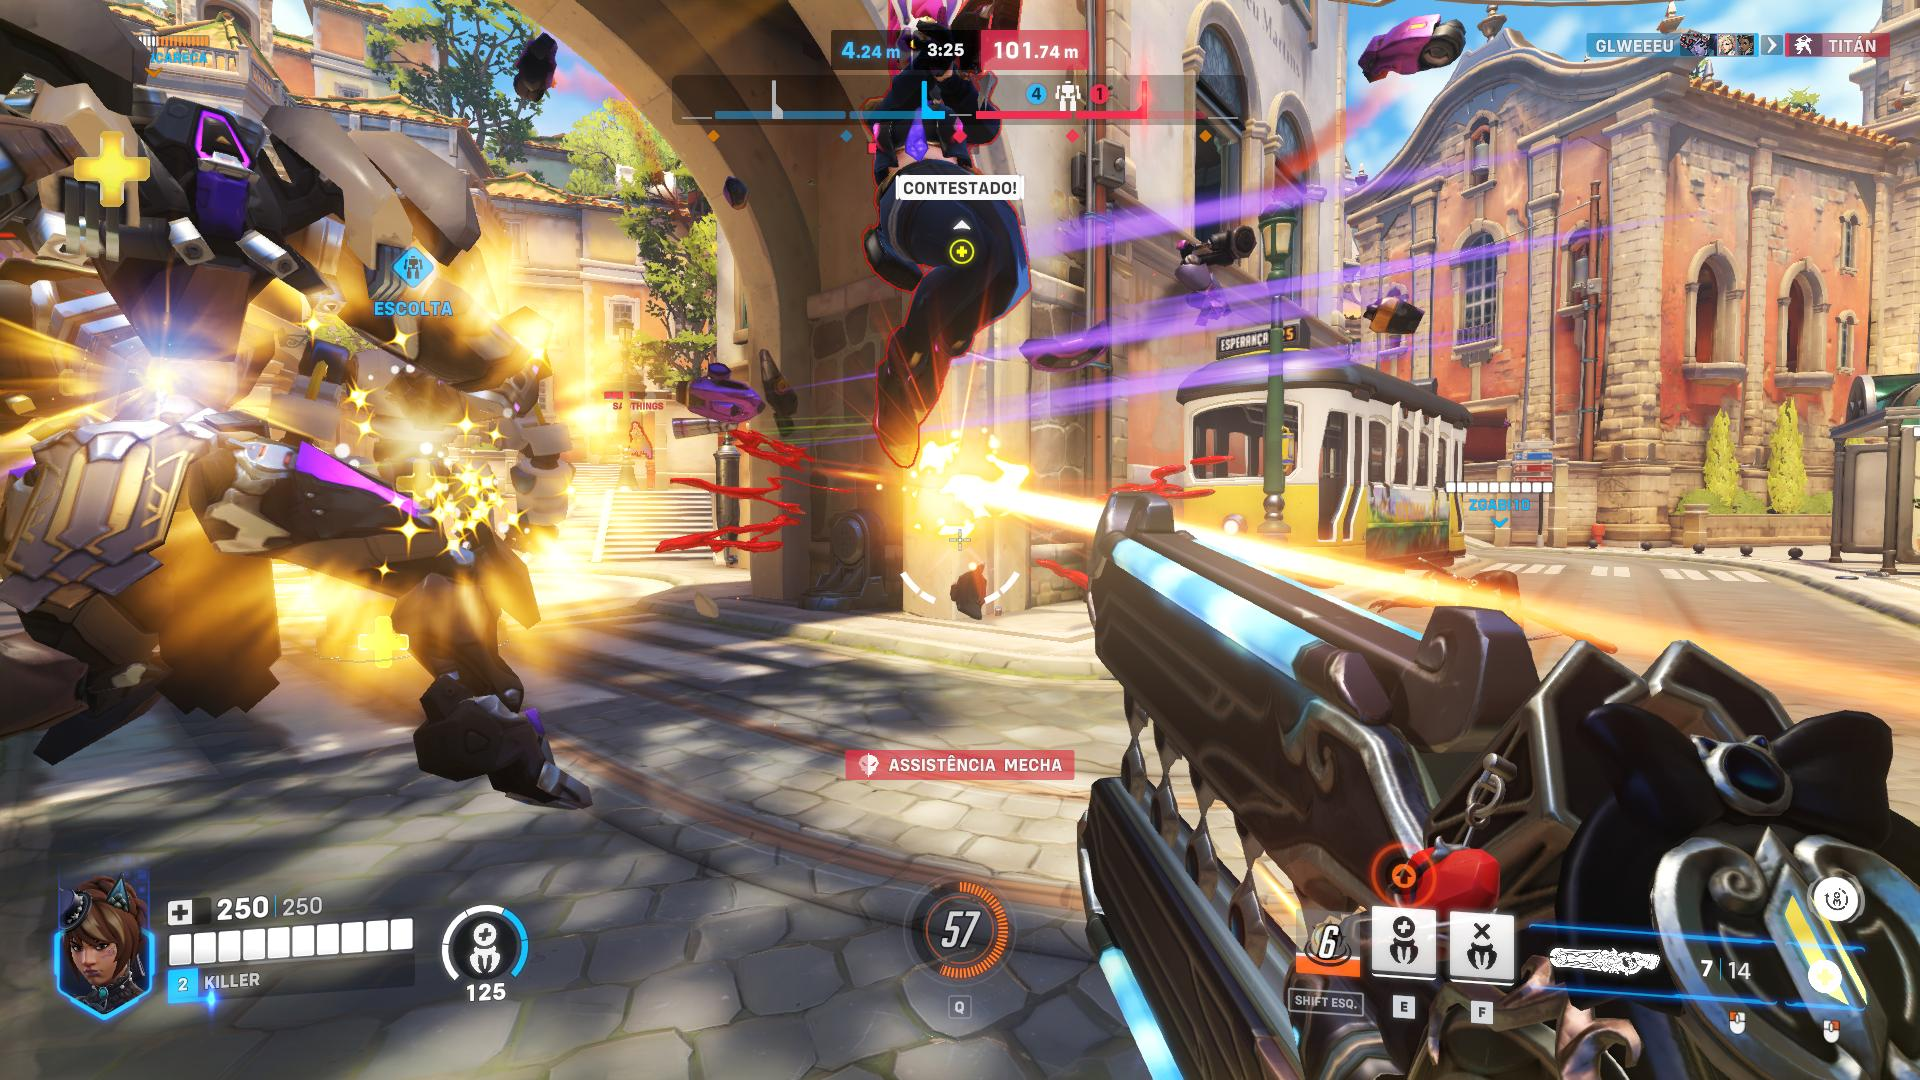enemy: (862, 0, 1034, 467), (628, 421, 653, 459)
